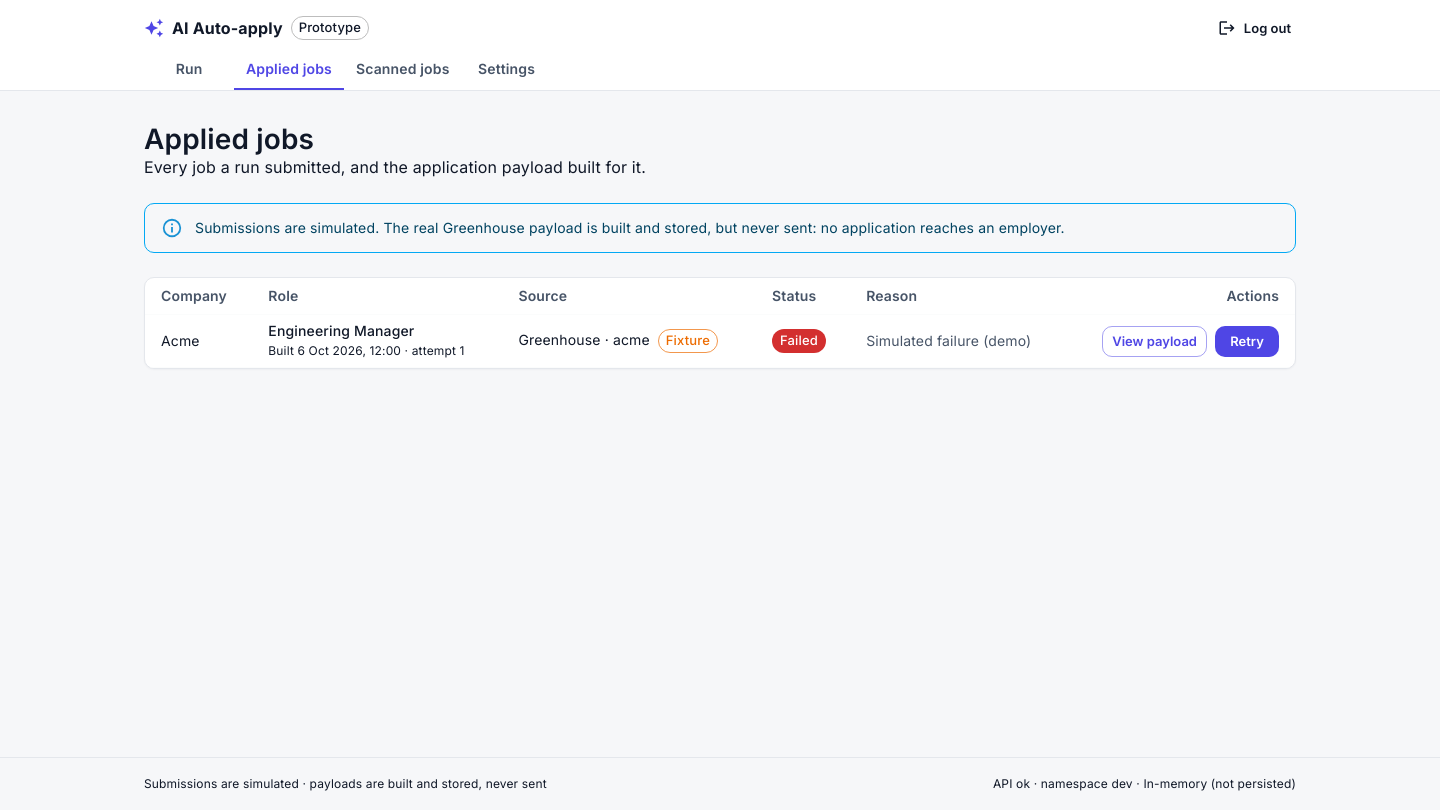
login gate › redirects to login when a Retry answers 401 (an expired session)
Click the button "Retry" at (1247, 341), box [1215,326,1279,357]
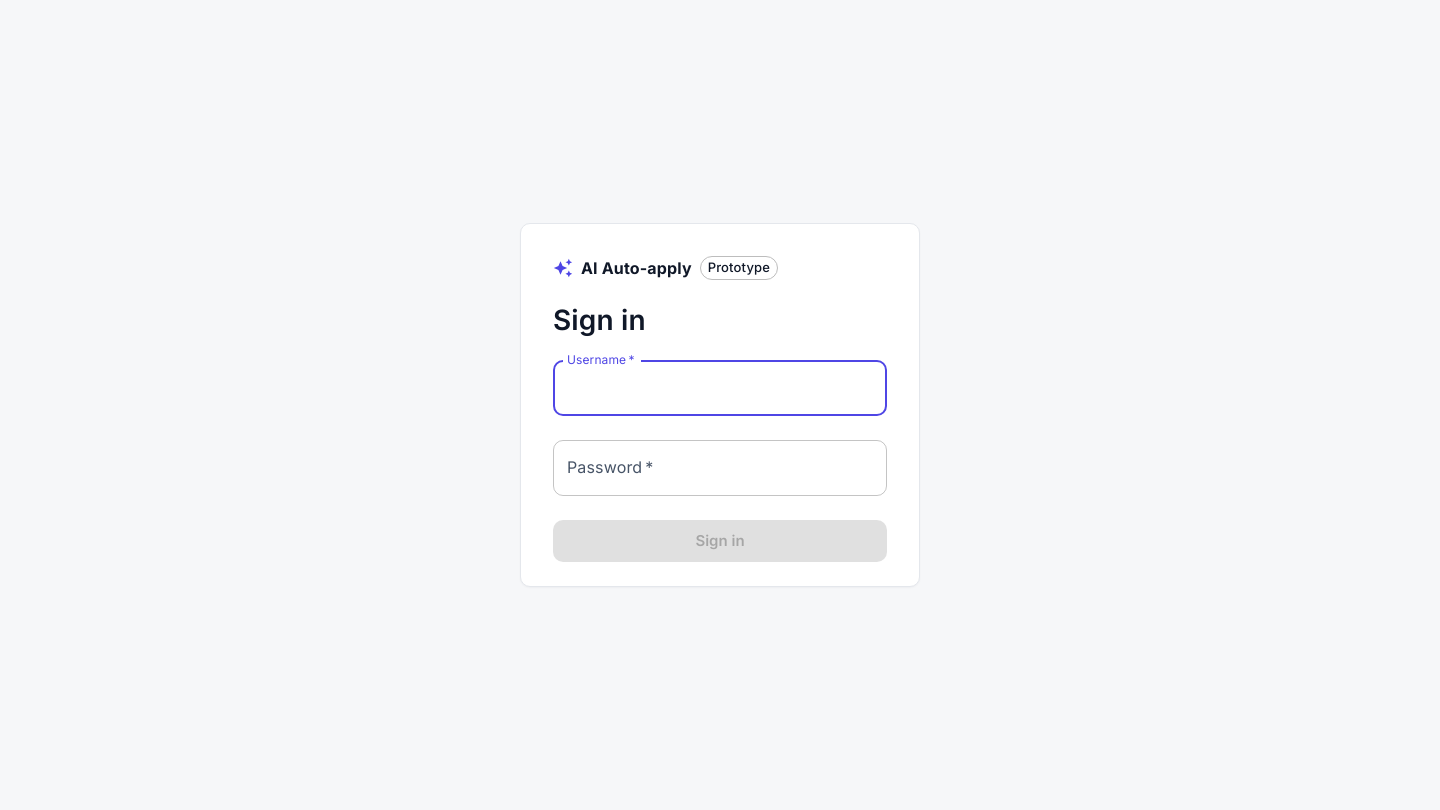
Result: the heading "Sign in" is shown at [553,302,646,336]
